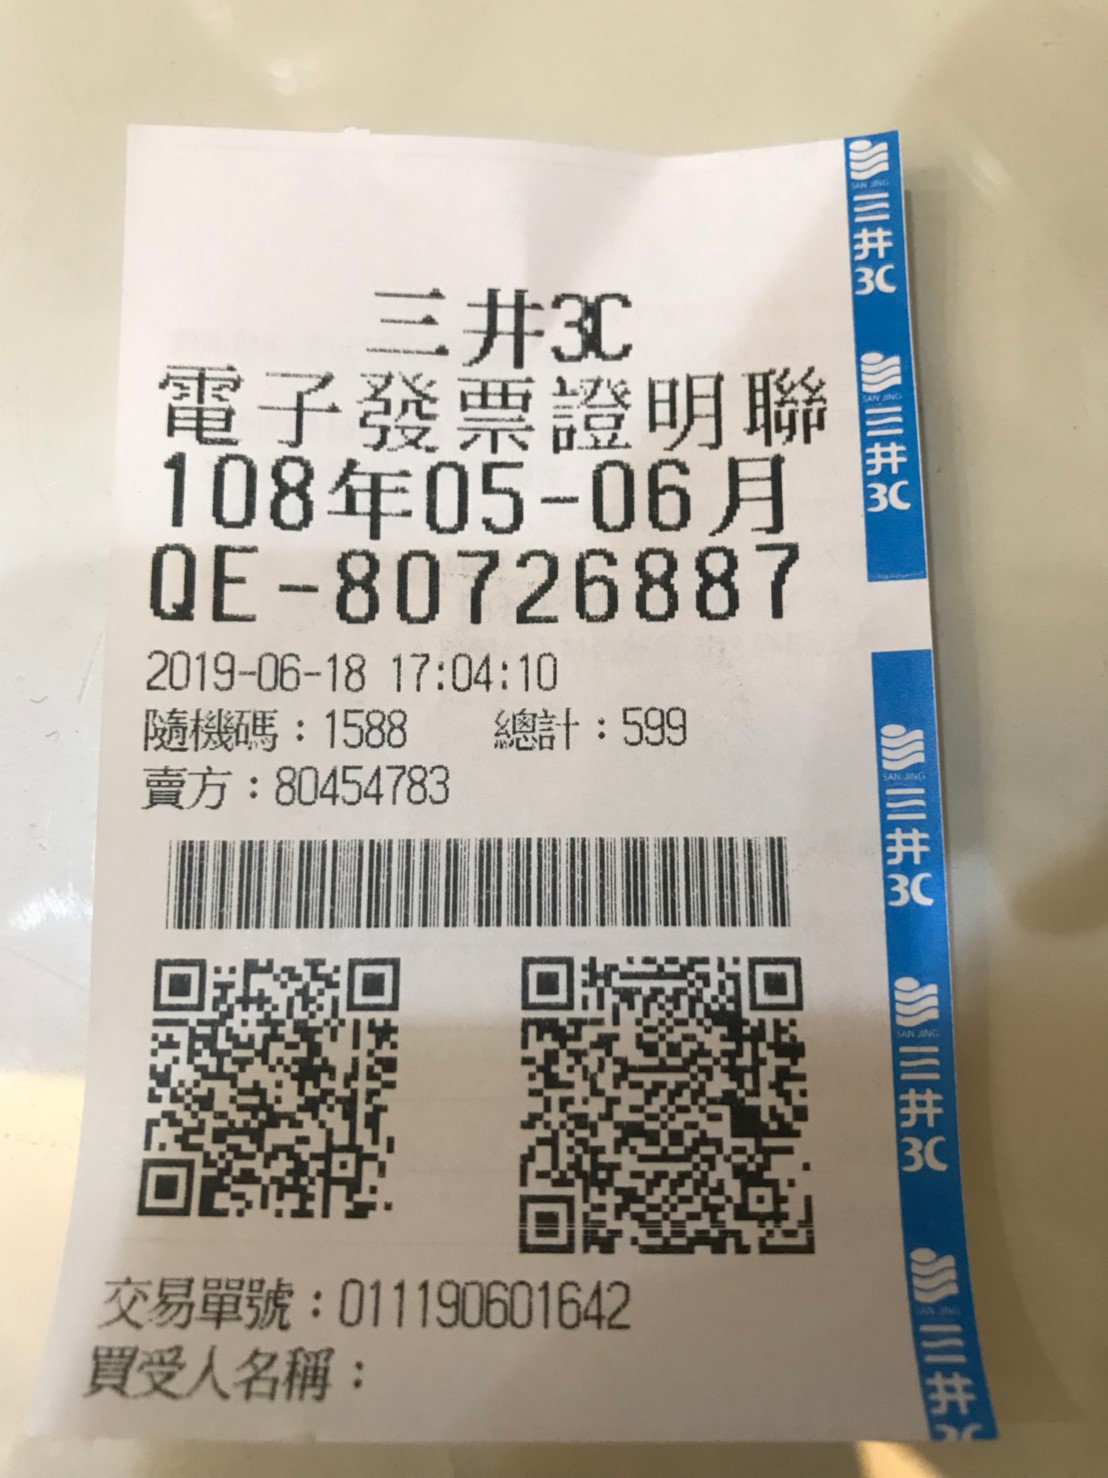Date_New: (155, 446, 795, 539)
Number_New: (331, 539, 801, 626)
